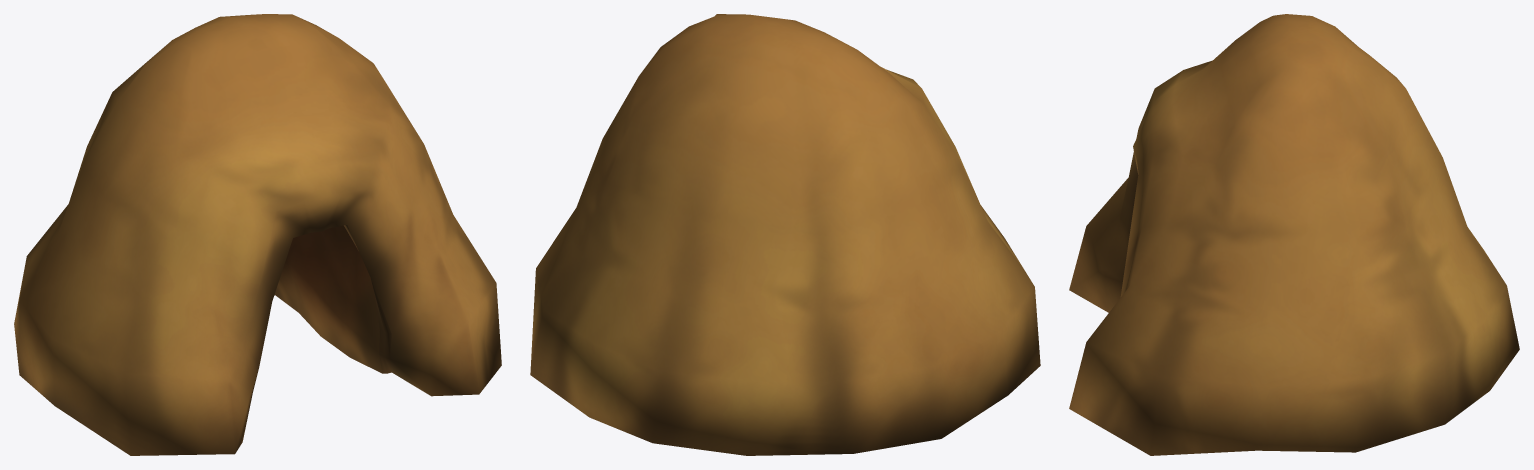
File: Cavern.glb
3 views of the same model, side by side, from view 1: azimuth 30°, elevation 25°; view 2: azimuth 150°, elevation 25°; view 3: azimuth 270°, elevation 25° (orthographic). The views are drawn at different scales.
Parts seen in each view (by area): view 1: Cube; view 2: Cube; view 3: Cube.
Boxes of the visible parts, x1,y1,x2,y2 form: Cube: [14, 14, 501, 455]; Cube: [530, 14, 1040, 455]; Cube: [1069, 14, 1519, 455].
Size of the model in its own units: 13 by 10.25 by 12.24.
Materials: 1 (1 with a texture image).
